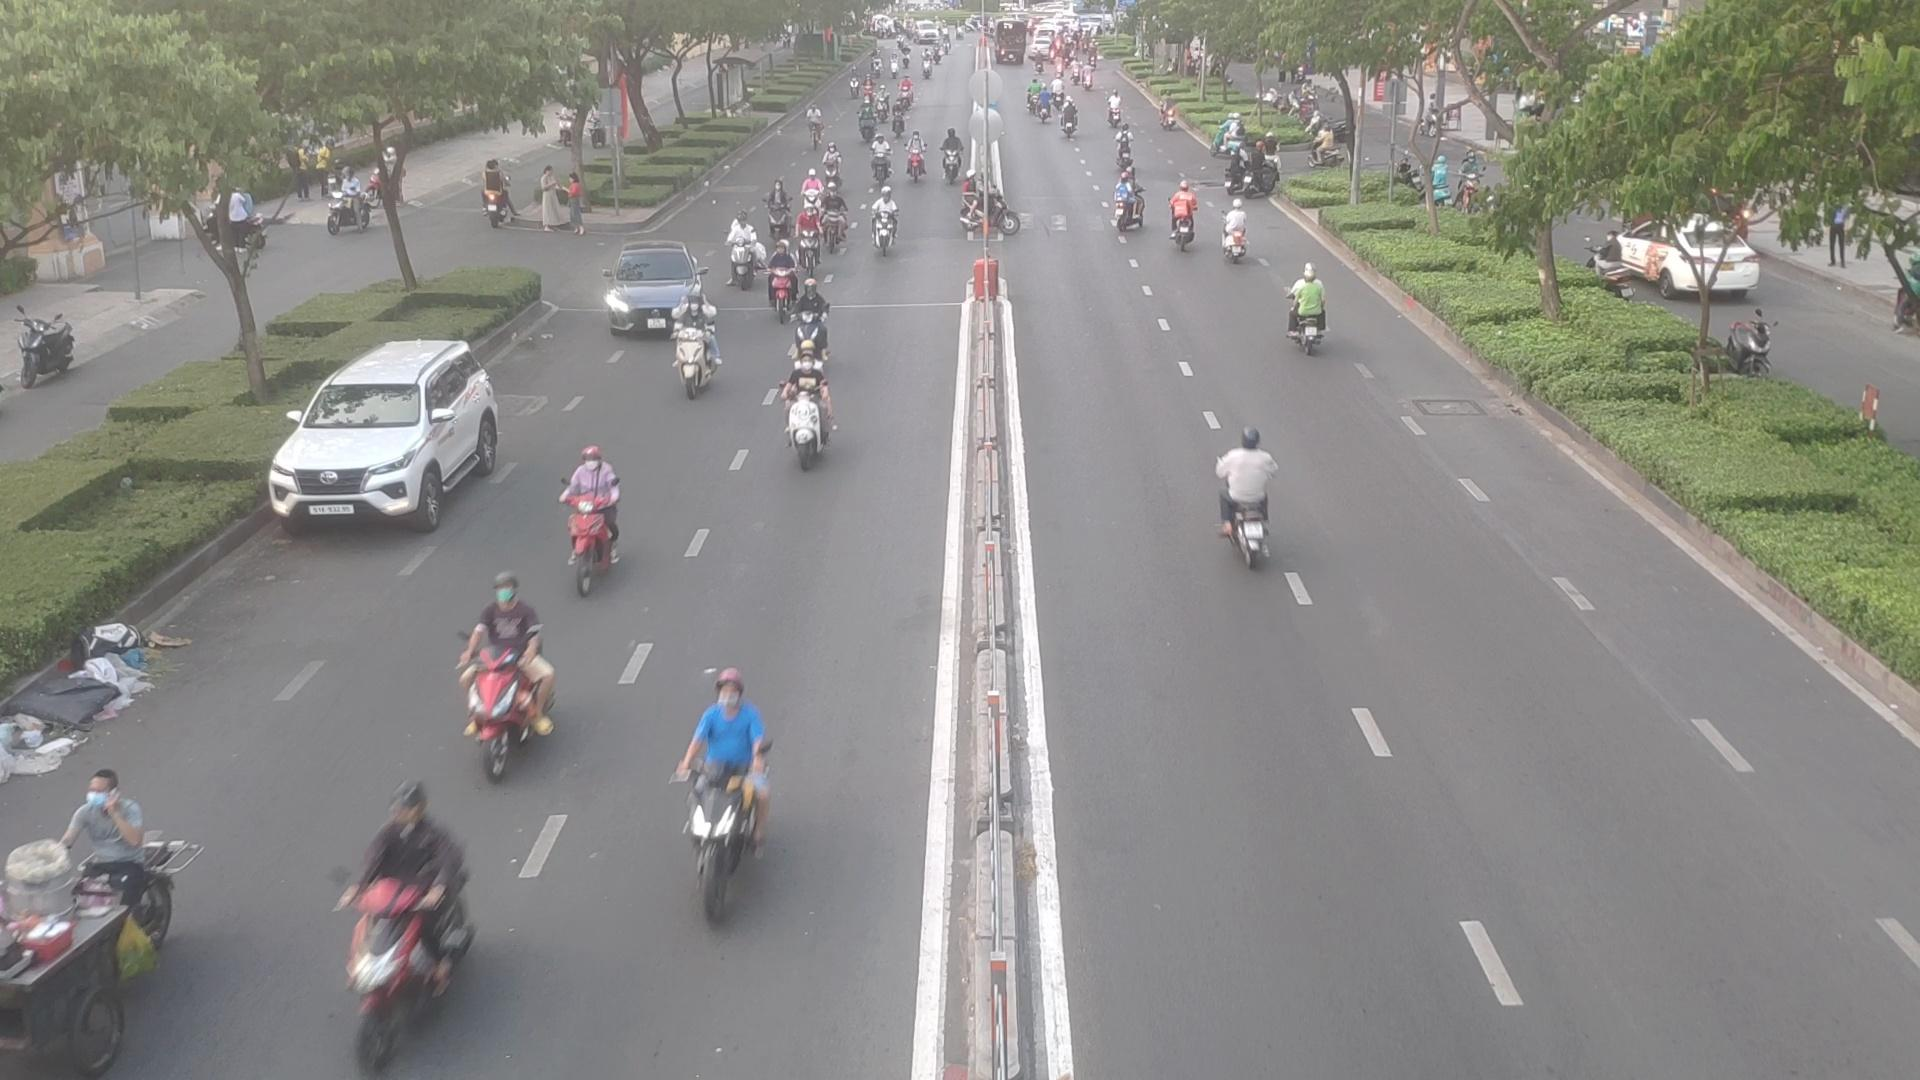car: (270, 340, 517, 531), (597, 249, 713, 339)
motorbike: (339, 795, 477, 1064), (674, 674, 766, 916), (451, 597, 556, 774), (553, 444, 632, 579), (1213, 429, 1286, 566), (775, 357, 849, 473), (670, 313, 731, 398), (1279, 274, 1335, 353), (957, 175, 1015, 233), (762, 247, 804, 316), (791, 284, 828, 360), (717, 225, 760, 286), (1167, 189, 1201, 253), (1112, 178, 1150, 233), (866, 195, 902, 255), (796, 207, 829, 264), (1221, 200, 1247, 265), (760, 185, 793, 236), (820, 202, 852, 253), (940, 132, 969, 181), (907, 138, 934, 185), (818, 144, 844, 189), (868, 135, 893, 175), (1112, 127, 1135, 166), (803, 171, 822, 214)
